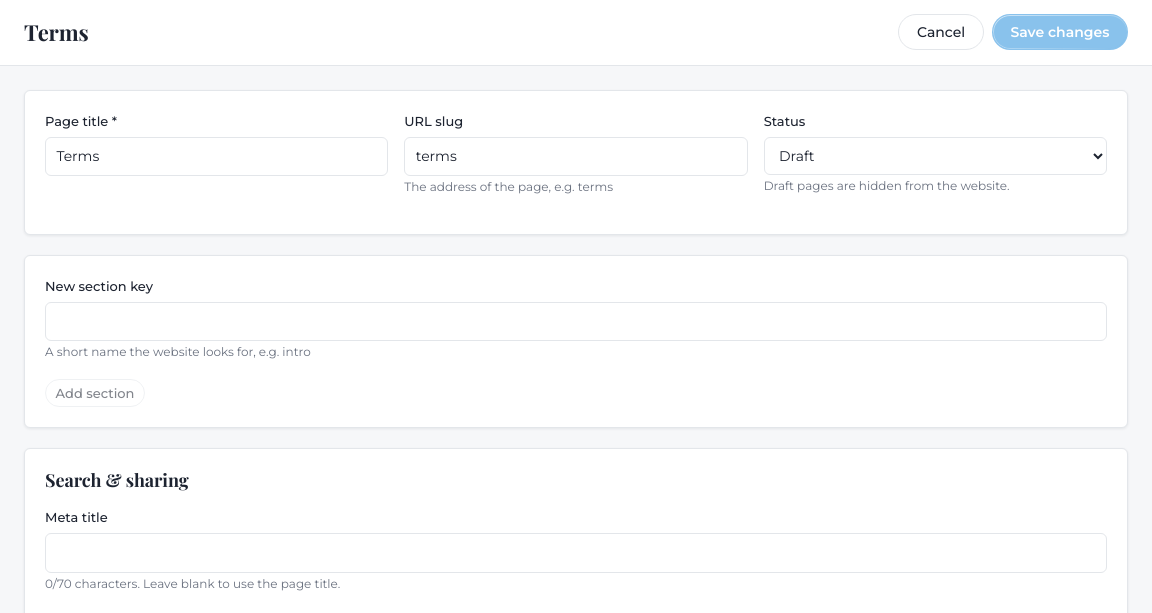
Test: page editor built from blueprints › lets a page without a blueprint add its own sections
Type "body" into the field labelled "New section key". click: coordinates (576, 321)
box: x1=45 y1=302 x2=1107 y2=341
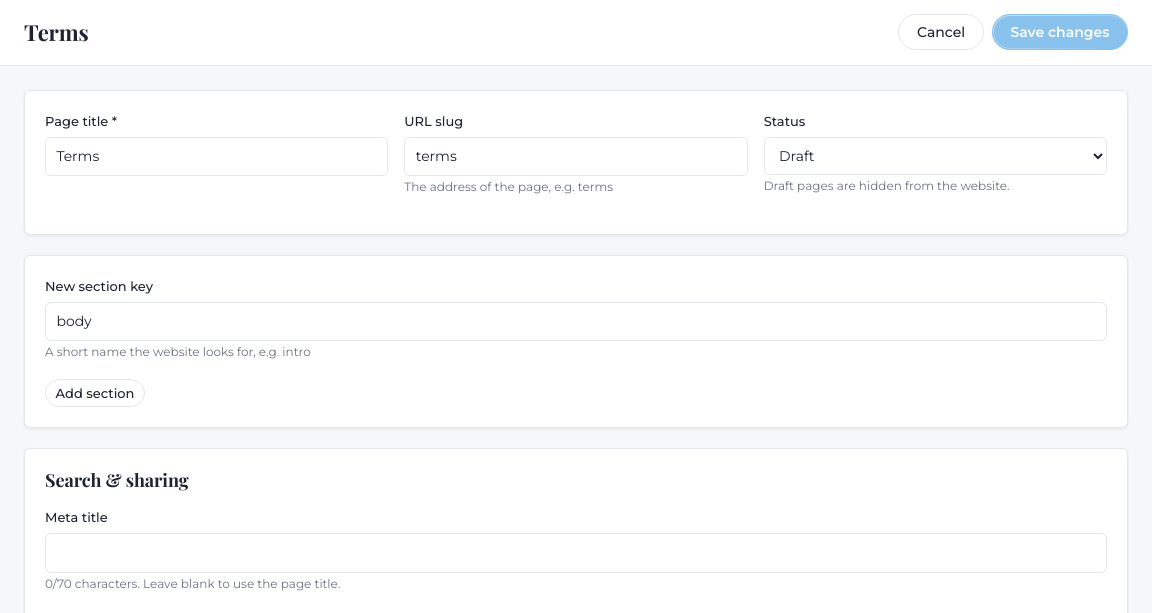
Click the button "Add section". click: coordinates (95, 393)
box: x1=45 y1=379 x2=145 y2=407
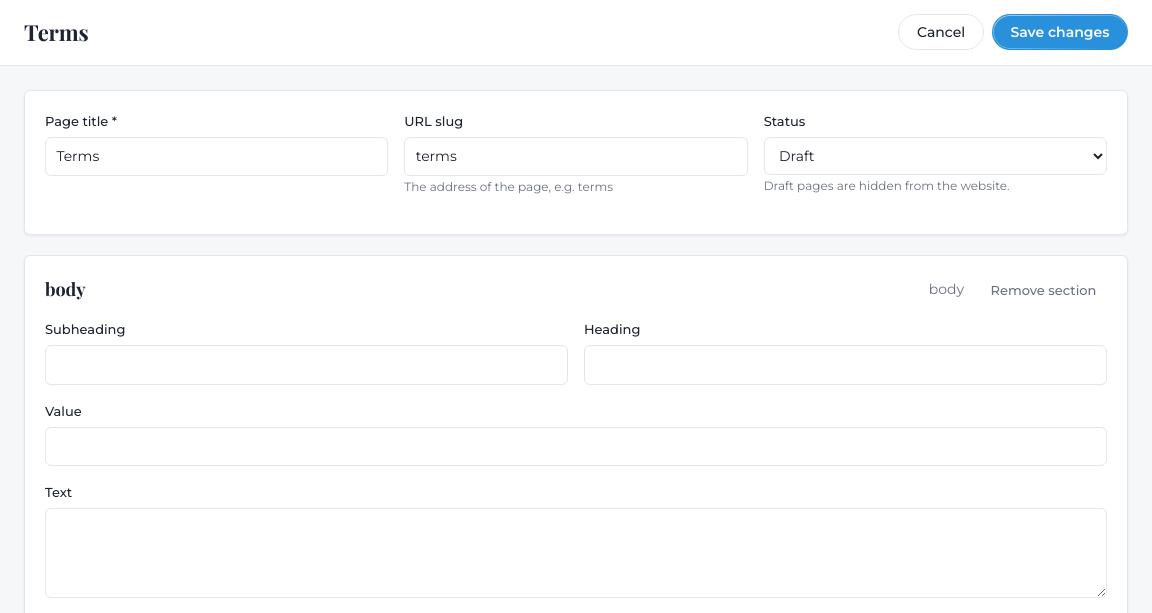
Now the heading "body" is shown, box x1=45 y1=278 x2=86 y2=301
